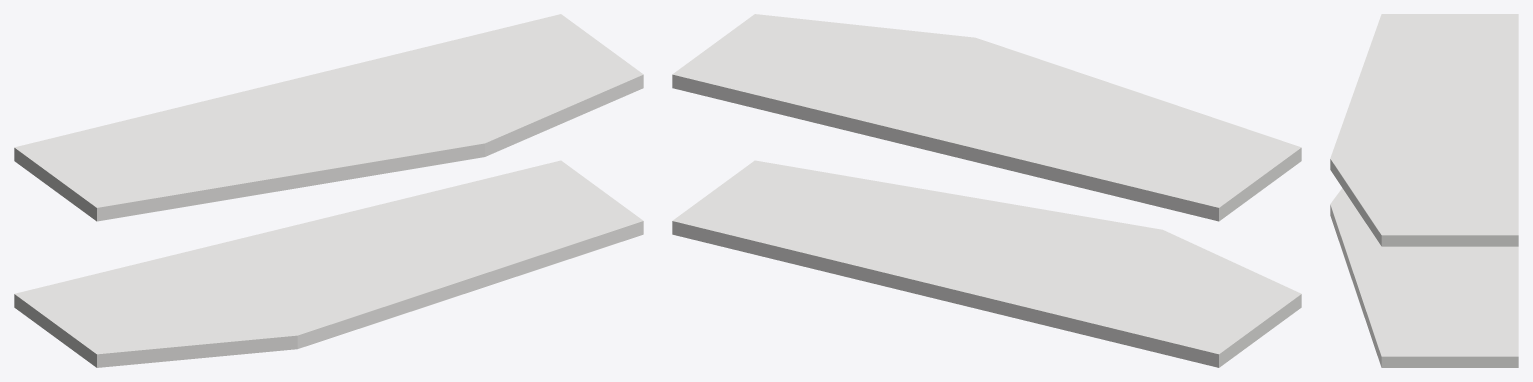
The model's file is Shelf_18.fbx.
3 views of the same model, side by side, from view 1: azimuth 30°, elevation 25°; view 2: azimuth 150°, elevation 25°; view 3: azimuth 270°, elevation 25° (orthographic). The views are drawn at different scales.
Visible parts, largest first — view 1: Shelf_18; view 2: Shelf_18; view 3: Shelf_18.
Part boxes in pixels (x1,y1,x2,y2): Shelf_18: [14, 14, 643, 367]; Shelf_18: [672, 14, 1301, 367]; Shelf_18: [1330, 14, 1518, 367].
Size of the model in its own units: 173 by 62.11 by 48.26.
